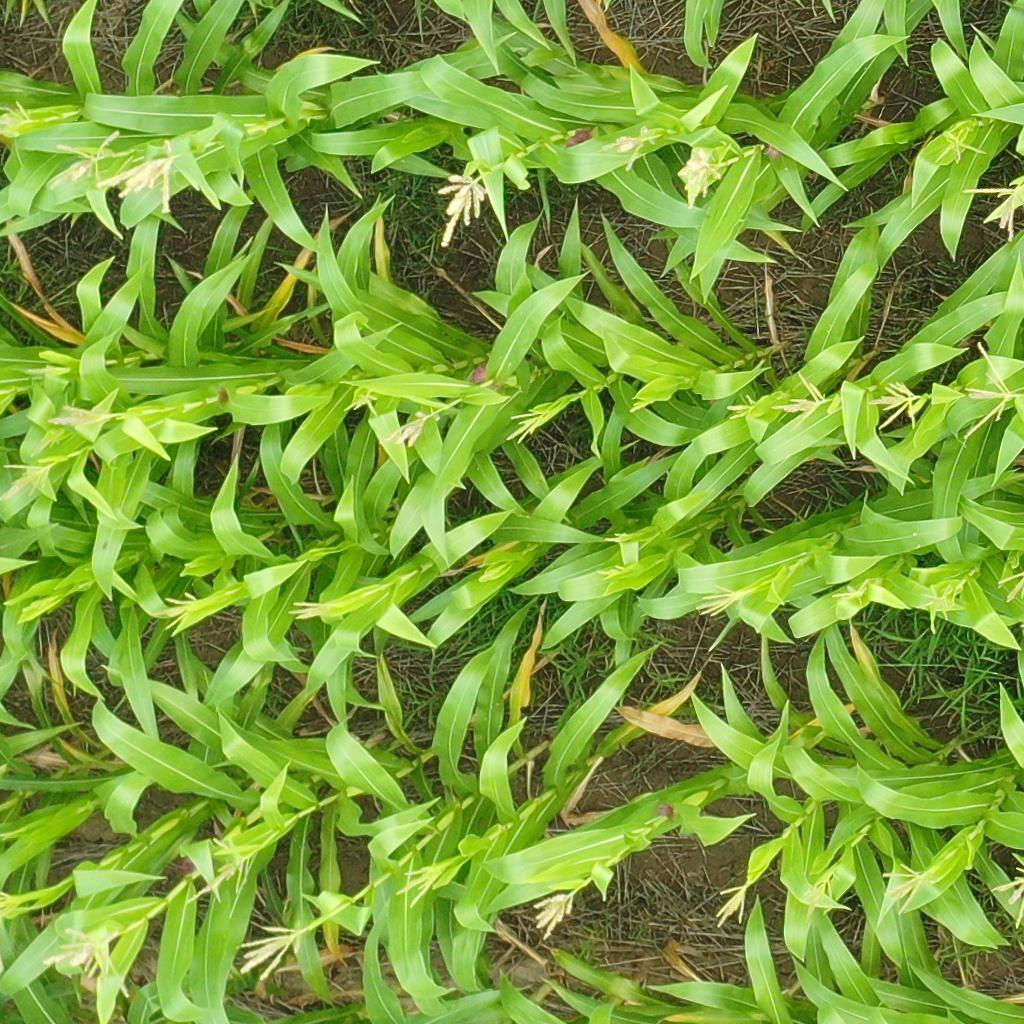Tassel: (40, 923, 132, 1001), (182, 835, 263, 916), (959, 339, 1023, 441), (98, 143, 181, 219), (41, 129, 122, 194), (236, 921, 310, 984), (963, 177, 1024, 244), (433, 171, 486, 247), (771, 368, 829, 429), (879, 861, 933, 916), (532, 884, 583, 941), (675, 145, 725, 203), (869, 378, 923, 431), (394, 858, 446, 911), (985, 865, 1024, 934), (155, 590, 203, 638), (1, 461, 57, 502), (799, 863, 838, 921), (917, 581, 962, 630), (48, 404, 130, 430), (503, 405, 554, 445), (601, 130, 649, 171), (713, 879, 750, 929), (696, 585, 748, 619), (380, 414, 428, 448), (939, 130, 983, 166), (26, 424, 67, 456), (343, 382, 380, 417), (1, 99, 34, 136), (285, 600, 338, 623), (827, 579, 870, 607), (992, 571, 1024, 603), (26, 360, 73, 381), (726, 392, 758, 421), (22, 592, 57, 613), (479, 561, 509, 584), (600, 530, 639, 545), (1, 891, 21, 919), (626, 396, 657, 413), (596, 564, 626, 581)
